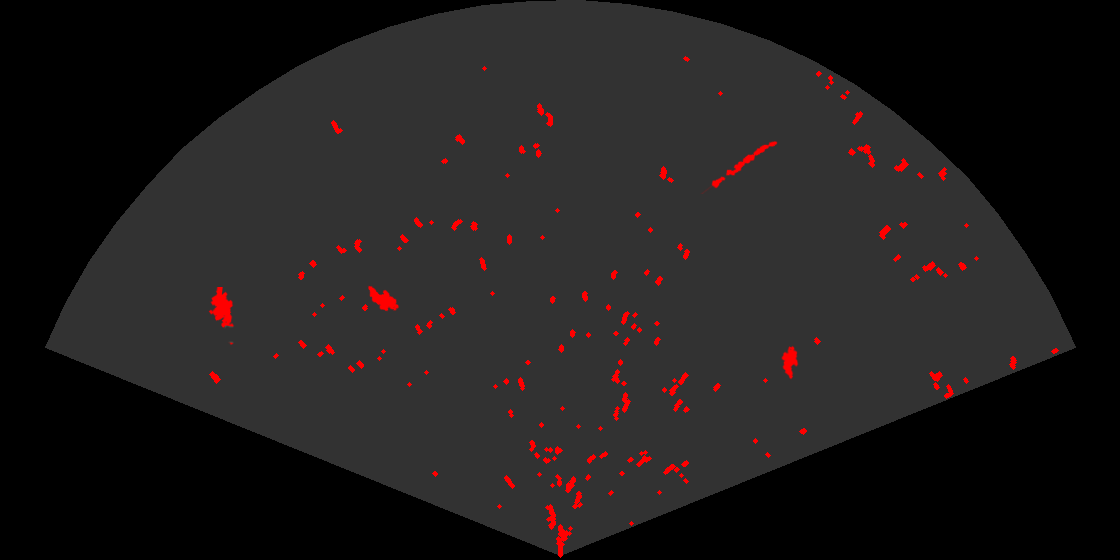AUV: (366, 284, 401, 313), (780, 344, 800, 381)
chain: (700, 139, 779, 194)
frogman: (207, 287, 236, 345)
